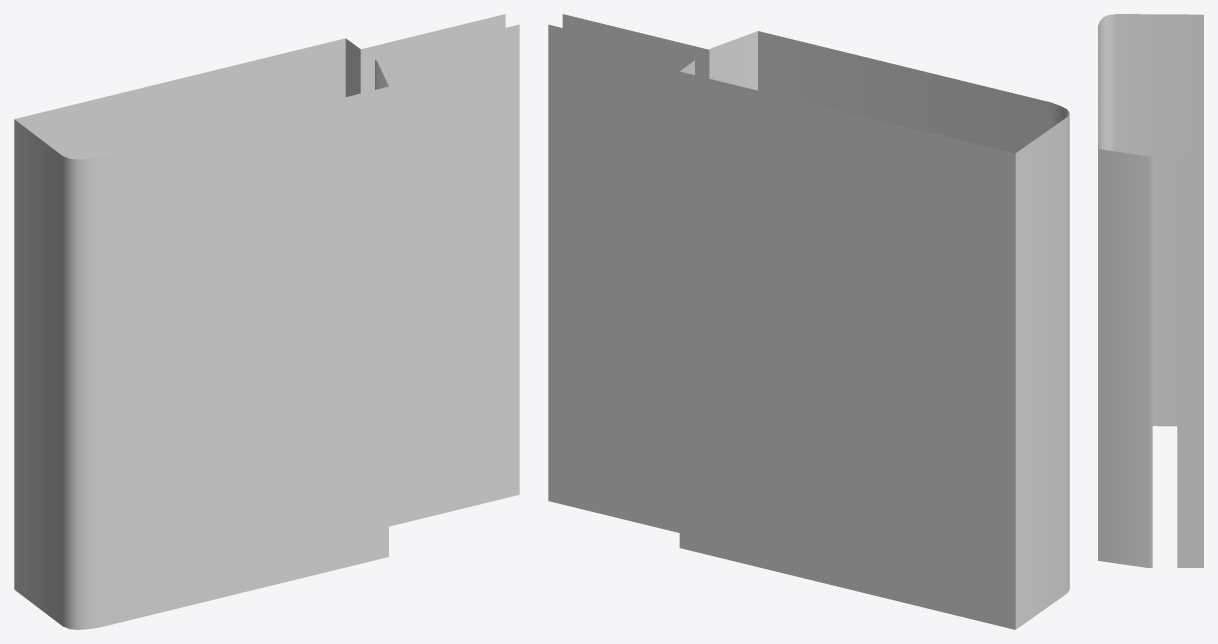
File: original-41.obj
The picture shows the model from 3 angles, left to right: view 1: azimuth 30°, elevation 25°; view 2: azimuth 150°, elevation 25°; view 3: azimuth 270°, elevation 25°; orthographic projection. The views are drawn at different scales.
Parts seen in each view (by area): view 1: DF_11_CL1/DF_11_CL/mesh29/mesh29-geometry#mesh29-geometry; view 2: DF_11_CL1/DF_11_CL/mesh29/mesh29-geometry#mesh29-geometry; view 3: DF_11_CL1/DF_11_CL/mesh29/mesh29-geometry#mesh29-geometry.
Boxes of the visible parts, x1,y1,x2,y2 form: DF_11_CL1/DF_11_CL/mesh29/mesh29-geometry#mesh29-geometry: [14, 14, 519, 629]; DF_11_CL1/DF_11_CL/mesh29/mesh29-geometry#mesh29-geometry: [548, 14, 1069, 629]; DF_11_CL1/DF_11_CL/mesh29/mesh29-geometry#mesh29-geometry: [1098, 14, 1203, 567].
Size of the model in its own units: 0.1444 by 0.1359 by 0.0316.
